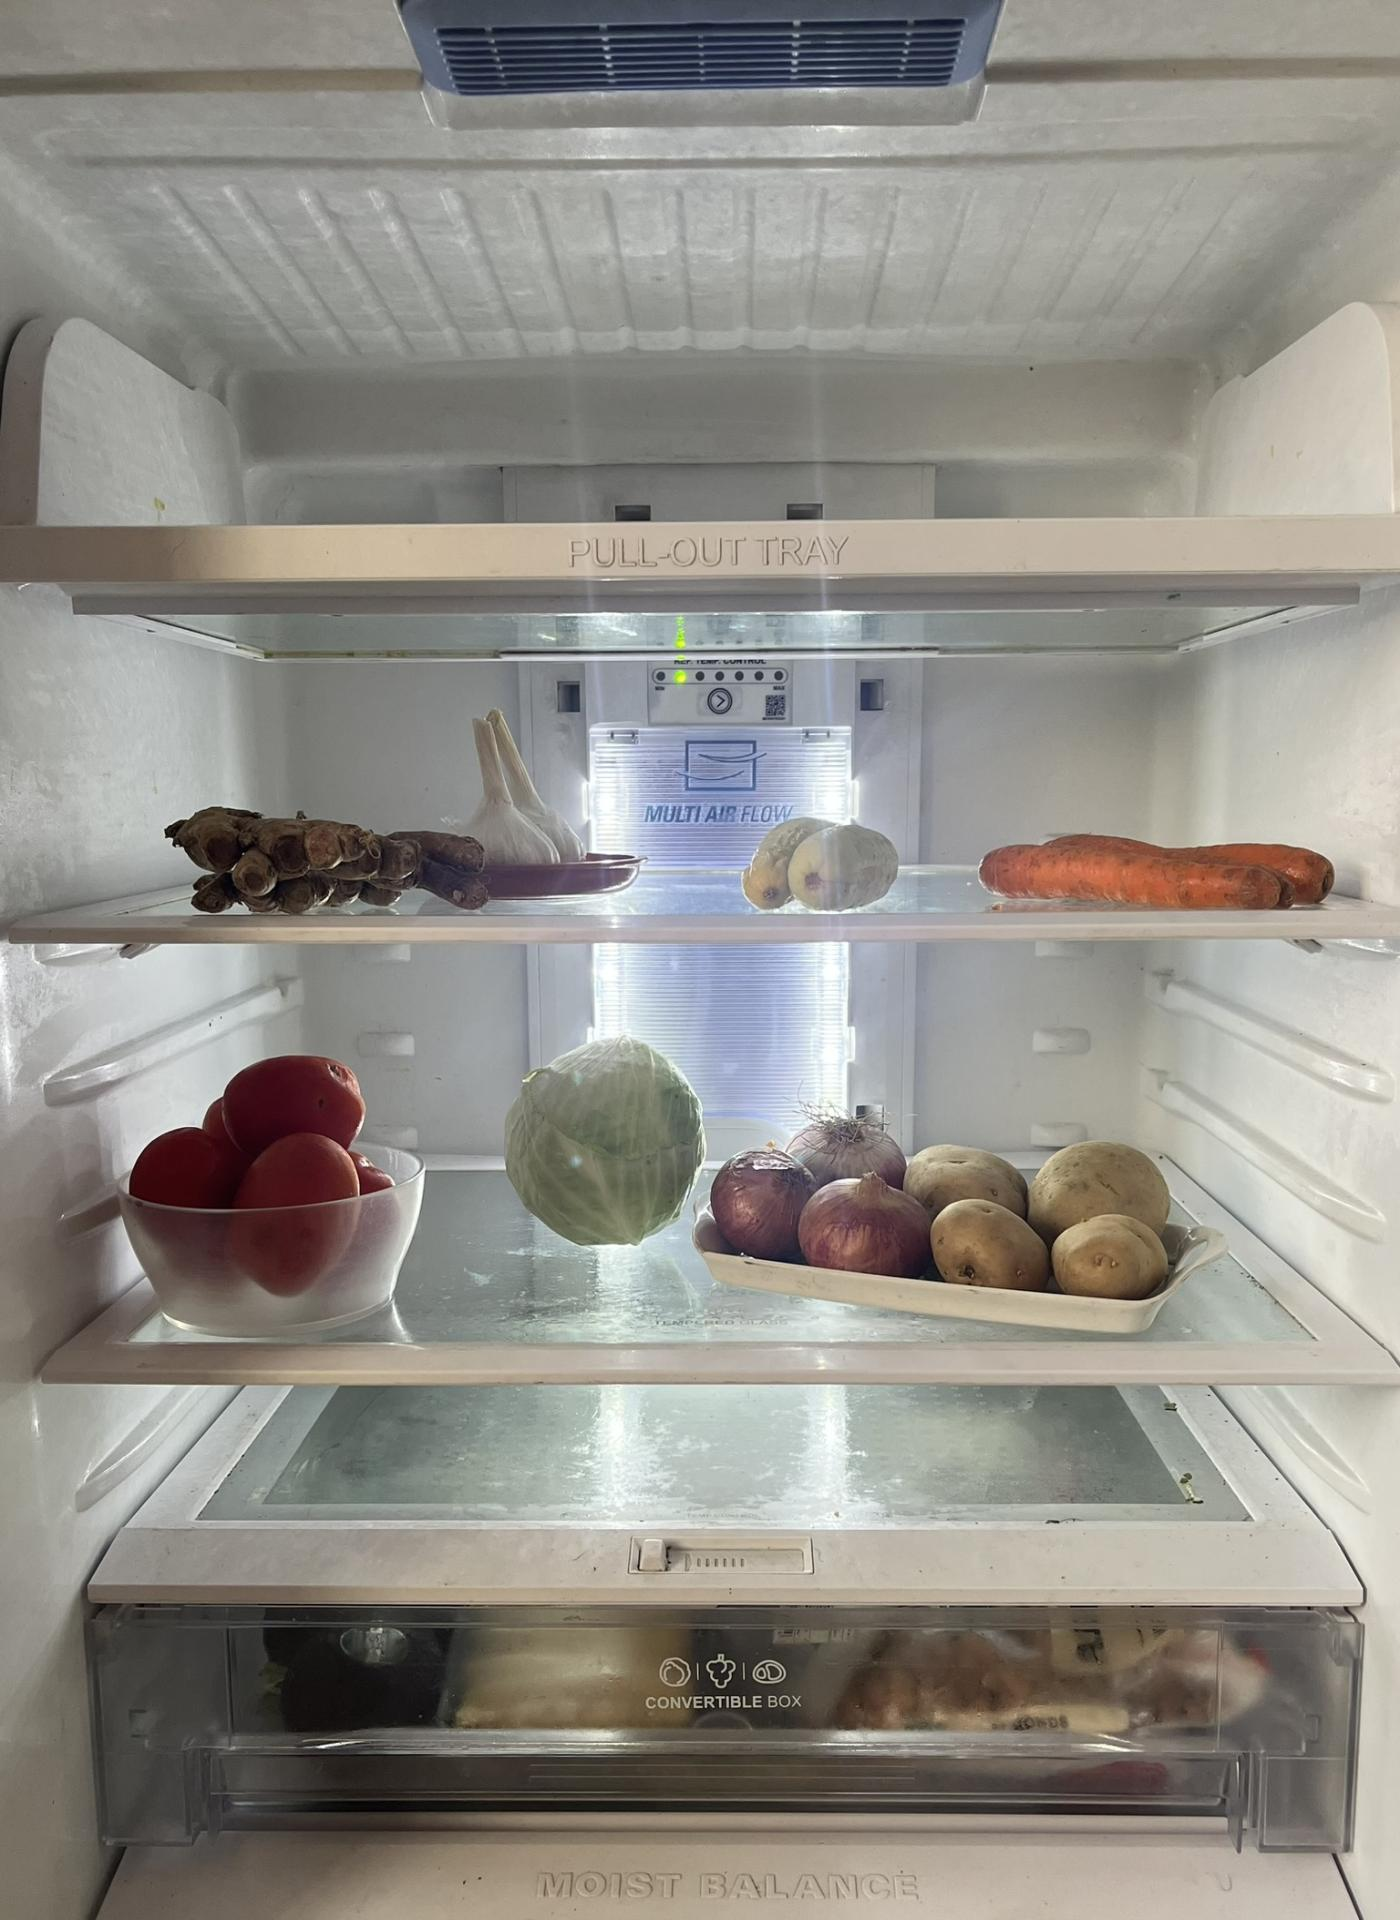cabbage: (498, 1029, 717, 1257)
carrots: (972, 826, 1346, 915)
cucumber: (735, 812, 908, 915)
garlic: (413, 696, 623, 866)
ginger: (164, 806, 498, 915)
onion: (702, 1097, 933, 1288)
potato: (896, 1128, 1176, 1306)
tomato: (119, 1054, 407, 1288)
